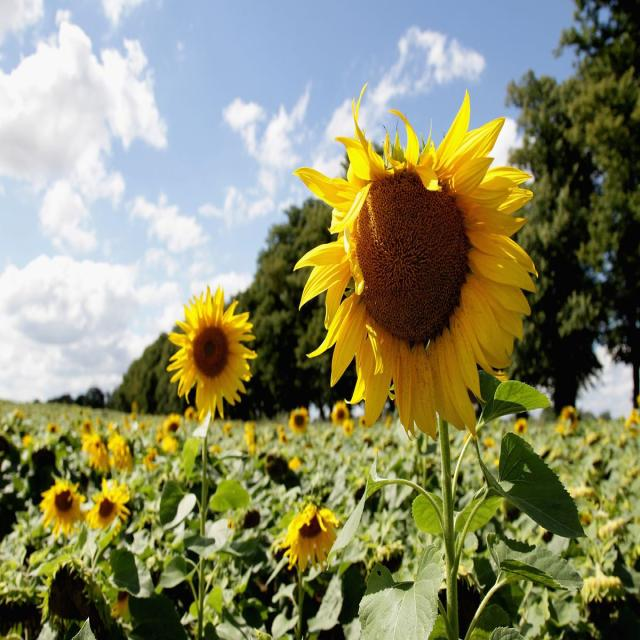sunflower: (292, 73, 540, 442), (164, 281, 260, 424), (282, 506, 338, 575), (80, 478, 132, 542), (36, 477, 85, 543), (285, 401, 312, 438), (326, 398, 354, 428)
